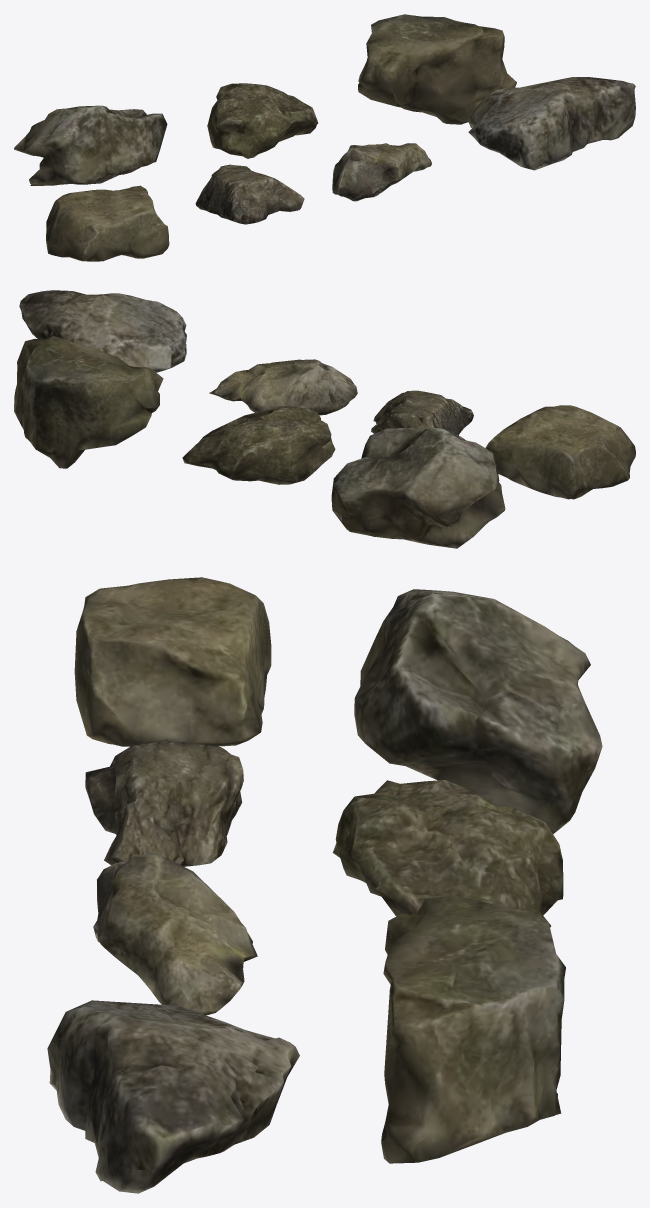
File: rock_moss_set_02_1k_lo.glb
3 views of the same model, one above another, from view 1: azimuth 30°, elevation 25°; view 2: azimuth 150°, elevation 25°; view 3: azimuth 270°, elevation 25° (orthographic). The views are drawn at different scales.
Visible parts, largest first — view 1: rock_moss_set_02_rock13, rock_moss_set_02_rock10, rock_moss_set_02_rock11, rock_moss_set_02_rock07, rock_moss_set_02_rock12, rock_moss_set_02_rock08, rock_moss_set_02_rock09; view 2: rock_moss_set_02_rock11, rock_moss_set_02_rock13, rock_moss_set_02_rock07, rock_moss_set_02_rock10, rock_moss_set_02_rock12, rock_moss_set_02_rock09, rock_moss_set_02_rock08; view 3: rock_moss_set_02_rock13, rock_moss_set_02_rock11, rock_moss_set_02_rock10, rock_moss_set_02_rock07, rock_moss_set_02_rock12, rock_moss_set_02_rock09, rock_moss_set_02_rock08.
Boxes of the visible parts, box(x1,y1,x2,y2) form: rock_moss_set_02_rock13: box(358, 14, 516, 124); rock_moss_set_02_rock10: box(468, 77, 635, 170); rock_moss_set_02_rock11: box(14, 105, 167, 185); rock_moss_set_02_rock07: box(46, 185, 169, 261); rock_moss_set_02_rock12: box(207, 83, 318, 158); rock_moss_set_02_rock08: box(195, 164, 304, 224); rock_moss_set_02_rock09: box(332, 143, 431, 201); rock_moss_set_02_rock11: box(331, 427, 505, 548); rock_moss_set_02_rock13: box(14, 336, 163, 468); rock_moss_set_02_rock07: box(485, 405, 635, 499); rock_moss_set_02_rock10: box(19, 290, 186, 372); rock_moss_set_02_rock12: box(182, 406, 335, 484); rock_moss_set_02_rock09: box(209, 359, 357, 415); rock_moss_set_02_rock08: box(371, 390, 473, 435); rock_moss_set_02_rock13: box(381, 895, 565, 1163); rock_moss_set_02_rock11: box(354, 589, 602, 833); rock_moss_set_02_rock10: box(47, 1000, 299, 1193); rock_moss_set_02_rock07: box(74, 577, 271, 746); rock_moss_set_02_rock12: box(332, 780, 563, 927); rock_moss_set_02_rock09: box(93, 852, 257, 1015); rock_moss_set_02_rock08: box(85, 741, 243, 866).
Bounding box in the file's own units: 8.28 × 1.36 × 3.41.
1 material, 1 textured.
